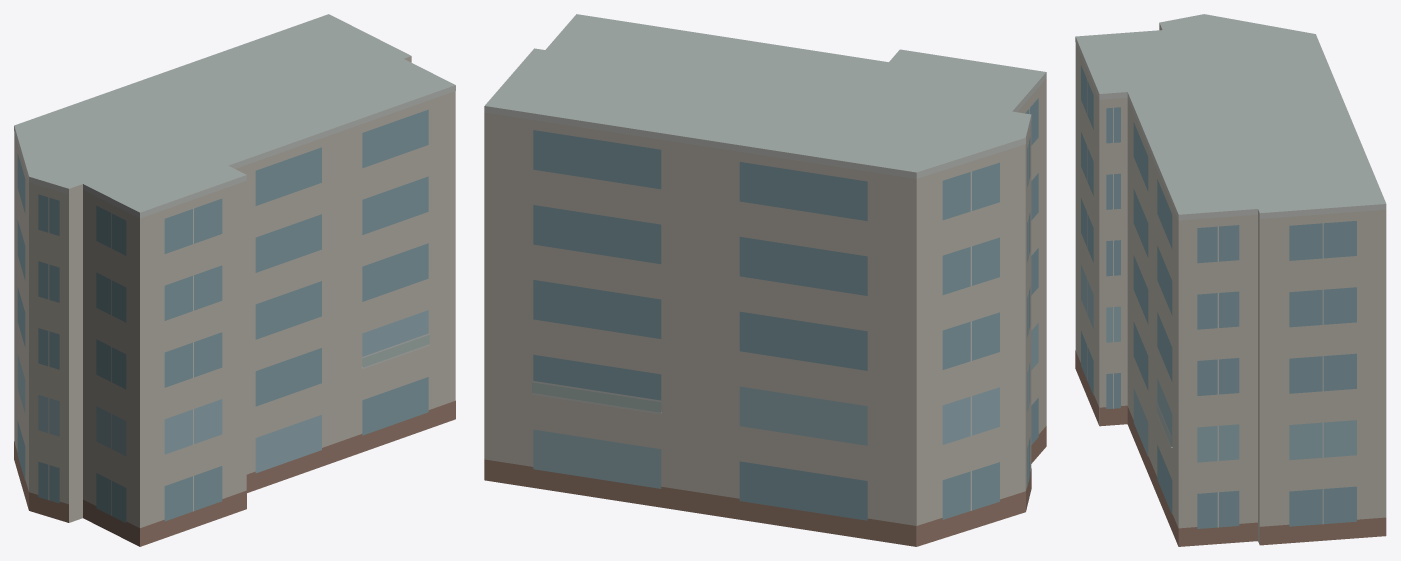
File: survey-upis-32788431.glb
The picture shows the model from 3 angles, left to right: view 1: azimuth 30°, elevation 25°; view 2: azimuth 150°, elevation 25°; view 3: azimuth 270°, elevation 25°; orthographic projection. The views are drawn at different scales.
Parts seen in each view (by area): view 1: survey-upis-32788431.tmp; view 2: survey-upis-32788431.tmp; view 3: survey-upis-32788431.tmp.
Boxes of the visible parts, x1,y1,x2,y2 form: survey-upis-32788431.tmp: (14, 14, 455, 546); survey-upis-32788431.tmp: (484, 14, 1046, 546); survey-upis-32788431.tmp: (1075, 14, 1386, 546).
Bounding box in the file's own units: 18.35 × 14.15 × 12.02.
